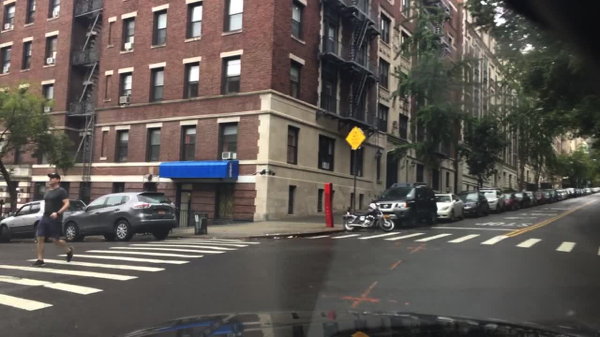car: (62, 190, 176, 244), (0, 200, 87, 242), (370, 183, 437, 227), (458, 190, 490, 217), (435, 193, 464, 222), (477, 187, 504, 212), (502, 191, 517, 211), (514, 191, 530, 209), (524, 191, 538, 206), (543, 189, 557, 203), (534, 191, 544, 203), (557, 190, 567, 200), (567, 188, 576, 197), (579, 189, 587, 196), (592, 186, 598, 193), (575, 189, 581, 196), (585, 188, 591, 194)
motor: (344, 200, 394, 234)
person: (31, 171, 73, 267)
traffic sign: (345, 125, 365, 149)
